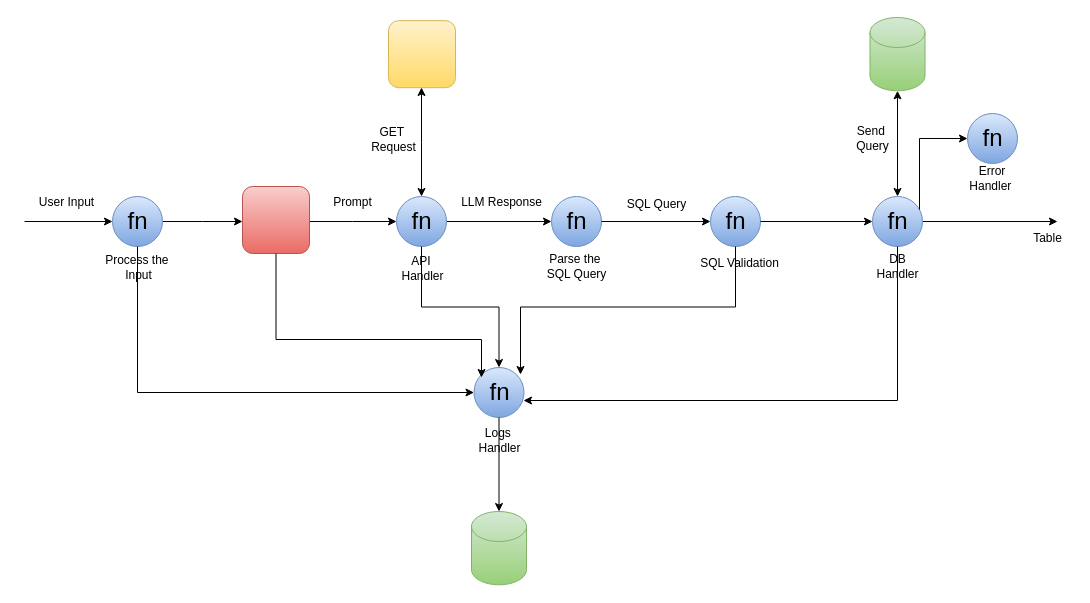
This 1090x603 diagram has some shape labels left out. The shapes that lost their labels are listed below. From the top down, each one's box as (x1, y1, x2, y2) in pixels, then its label:
(388, 20, 456, 88): LLM API
(869, 16, 925, 91): Database
(242, 186, 310, 254): Prompt Template
(470, 510, 526, 585): Logs
